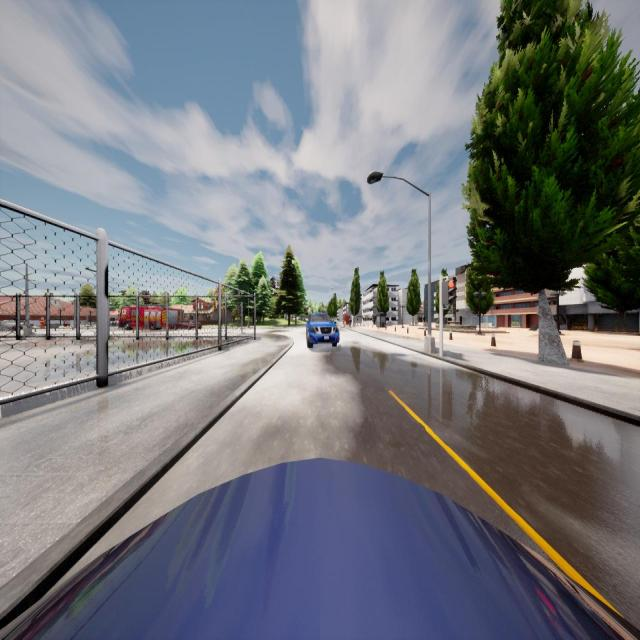Vehicle: (0, 458, 640, 640), (118, 306, 178, 330), (306, 313, 339, 347), (179, 318, 201, 331)
traffic_light: (443, 281, 455, 305), (238, 306, 241, 316)
